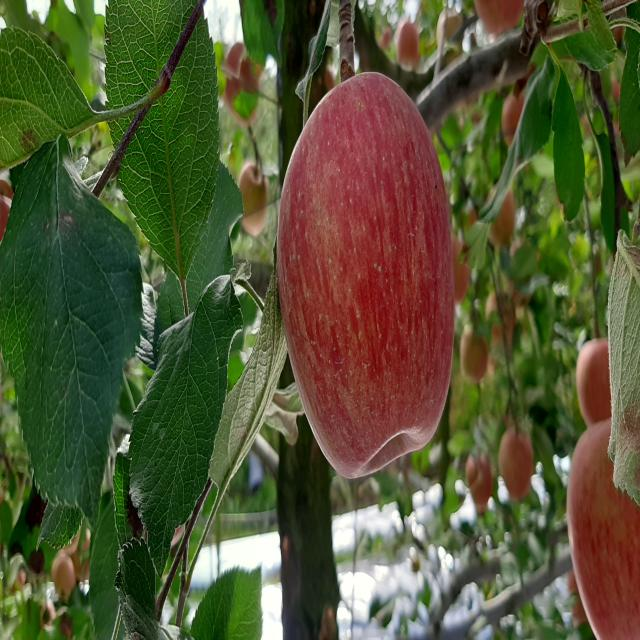fresh: (273, 58, 460, 485)
